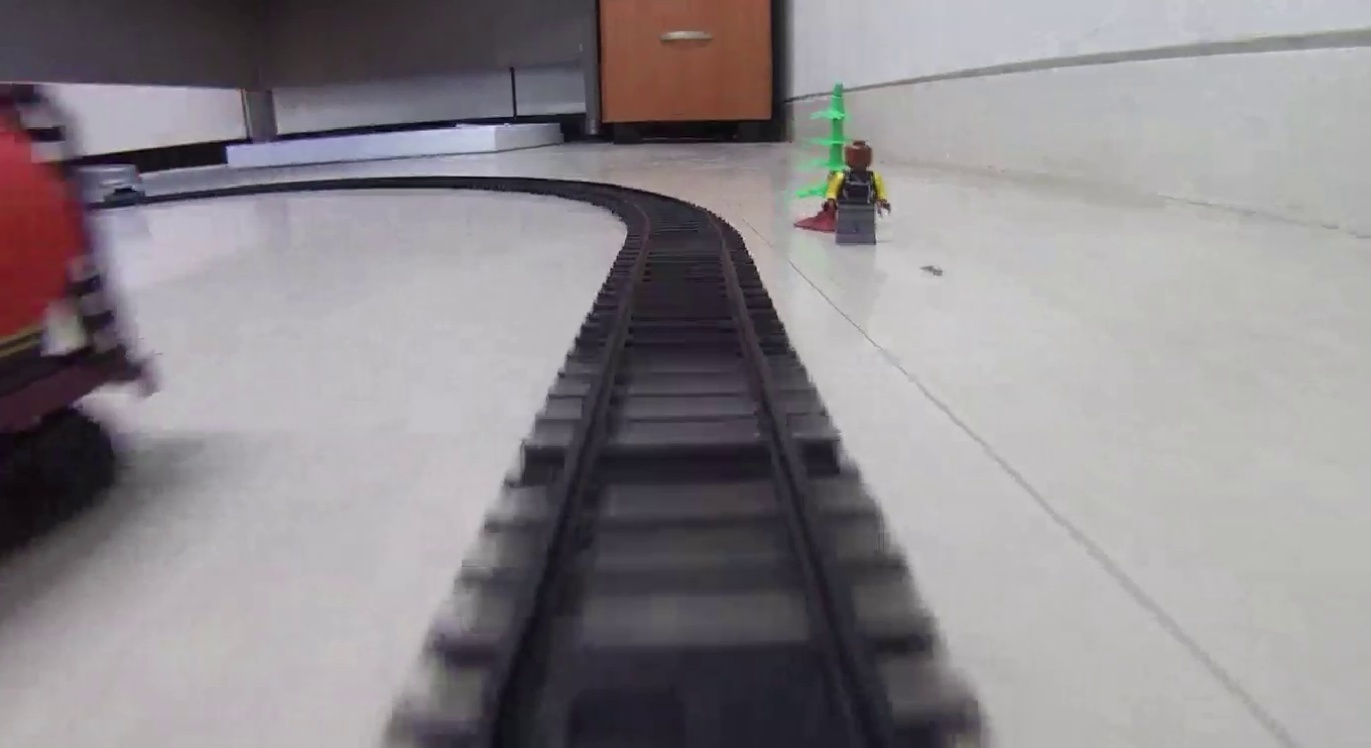people: (826, 138, 893, 236)
